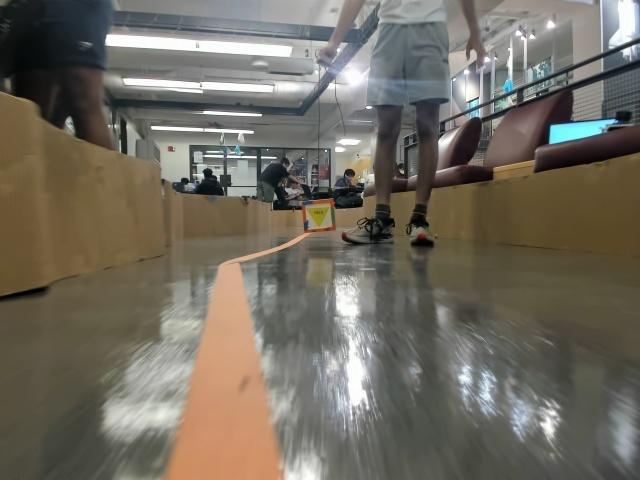Yield: (306, 207, 329, 225)
